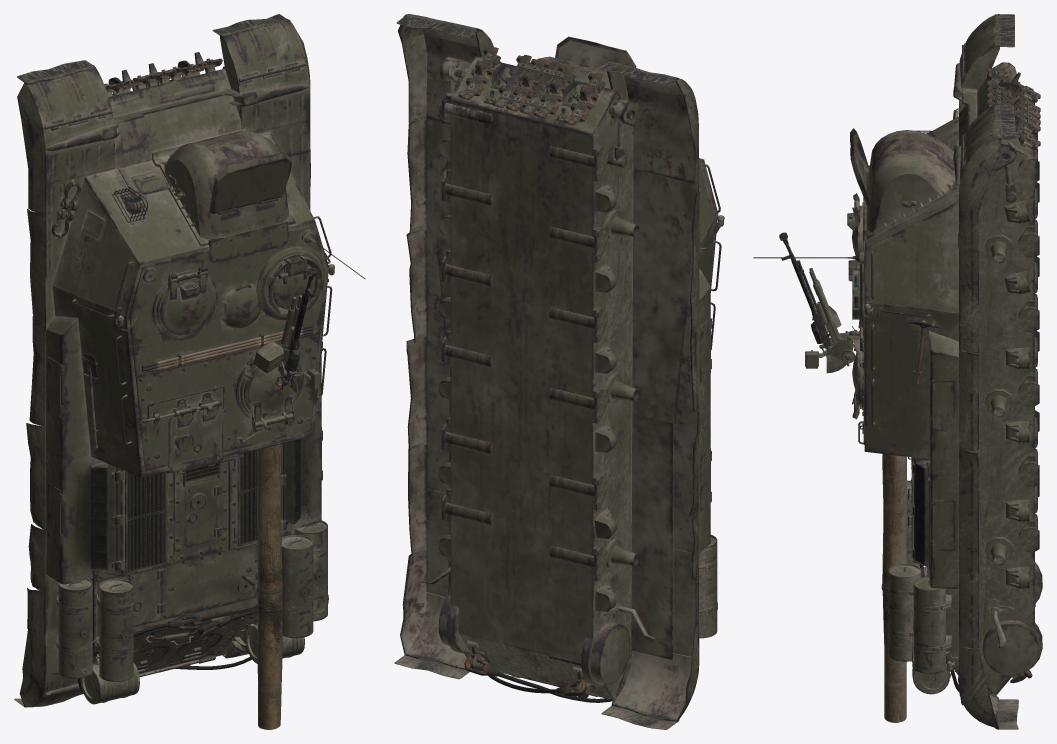
File: Hull.glb
3 views of the same model, side by side, from view 1: azimuth 30°, elevation 25°; view 2: azimuth 150°, elevation 25°; view 3: azimuth 270°, elevation 25° (orthographic). The views are drawn at different scales.
Visible parts, largest first — view 1: set_0_group_0, set_0_group_1; view 2: set_0_group_0, set_0_group_1; view 3: set_0_group_0, set_0_group_1.
Part boxes in pixels (x1=…): set_0_group_0: x1=14, y1=14, x2=365, y2=707; set_0_group_1: x1=51, y1=52, x2=328, y2=729; set_0_group_0: x1=394, y1=14, x2=724, y2=729; set_0_group_1: x1=458, y1=46, x2=717, y2=702; set_0_group_0: x1=753, y1=14, x2=1042, y2=729; set_0_group_1: x1=779, y1=67, x2=1040, y2=722.
Size of the model in its own units: 3.3 by 7.22 by 3.06.
Materials: 2 (2 with a texture image).
